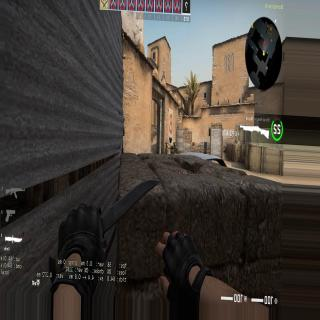CT-Head: (167, 134, 176, 153), (168, 135, 173, 142)
